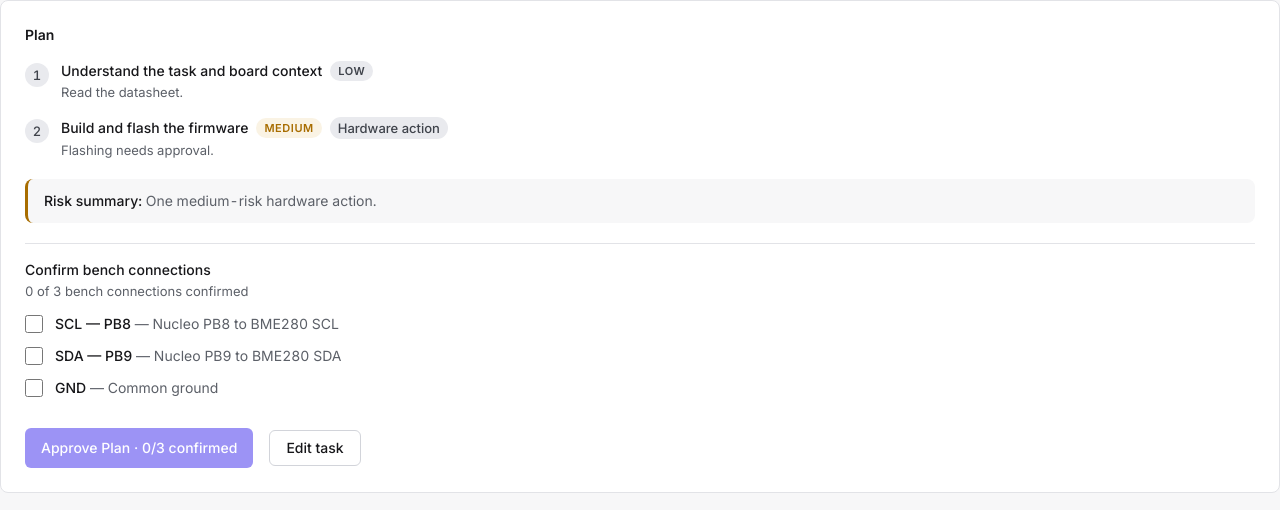
Test: PlanReview checklist gate (D12) › re-arms the gate when a confirmed line is unchecked
The image size is (1280, 510).
Click the checkbox labelled "SCL — PB8 — Nucleo PB8 to BME280 SCL". click: [34, 324]
box: 25,315 -> 43,333
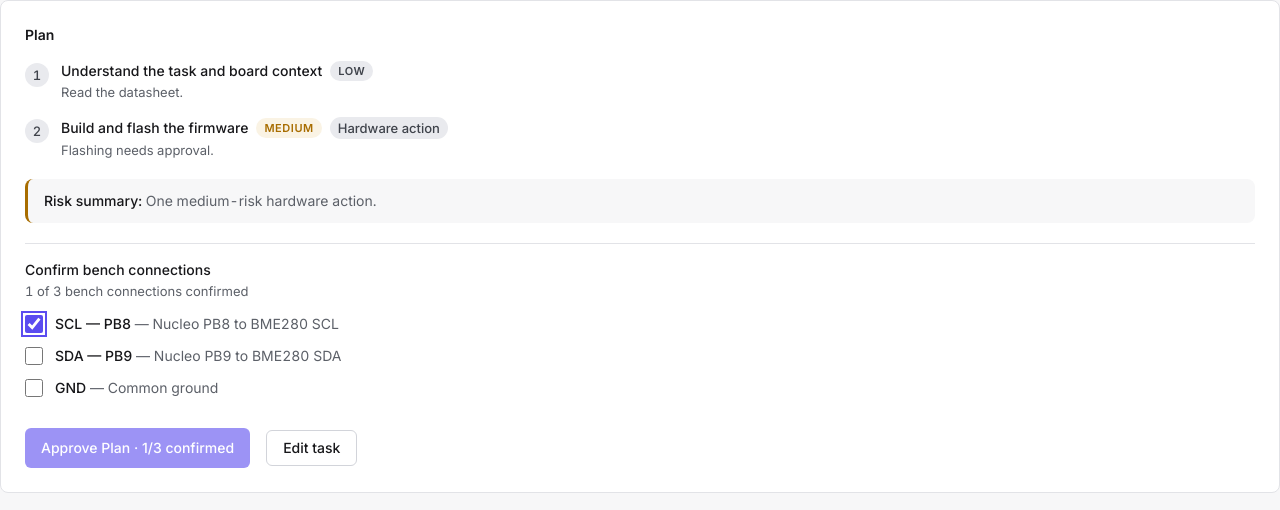
Click the checkbox labelled "SDA — PB9 — Nucleo PB9 to BME280 SDA". click: [34, 356]
box: 25,347 -> 43,365
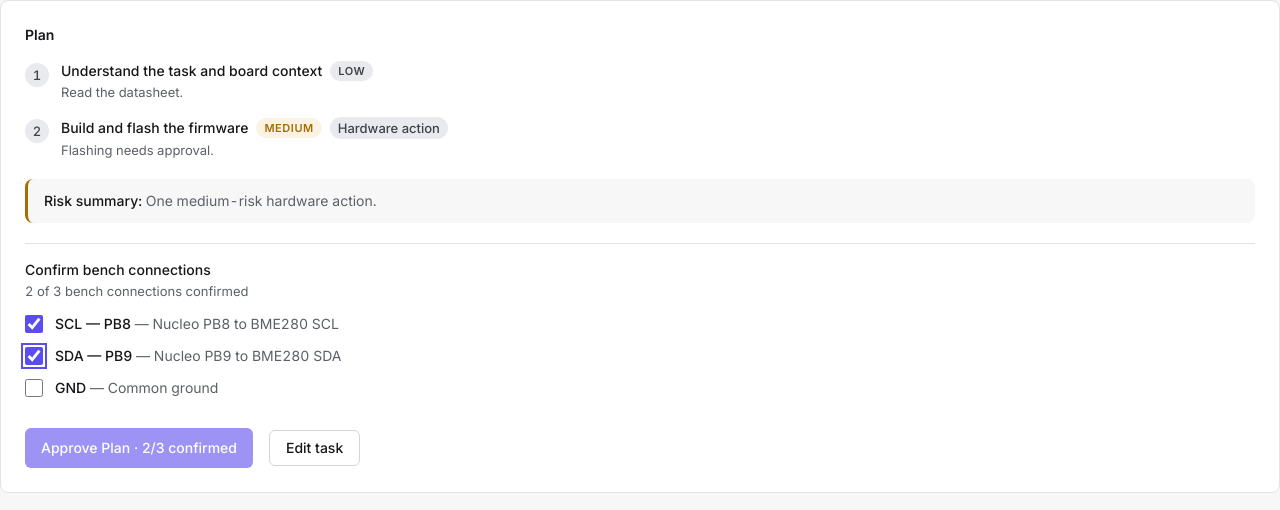
Click the checkbox labelled "GND — Common ground". click: [34, 388]
box: 25,379 -> 43,397
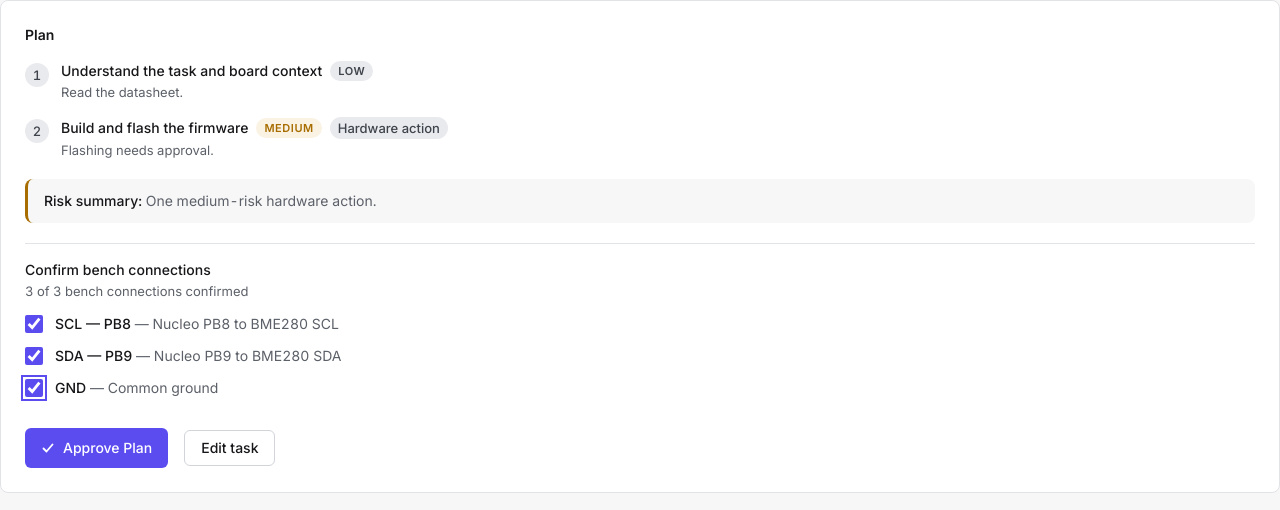
expect the button "Approve Plan" is enabled: met, box 25,428 -> 168,468
Click the checkbox labelled "SDA — PB9 — Nucleo PB9 to BME280 SDA". click: [34, 356]
box: 25,347 -> 43,365
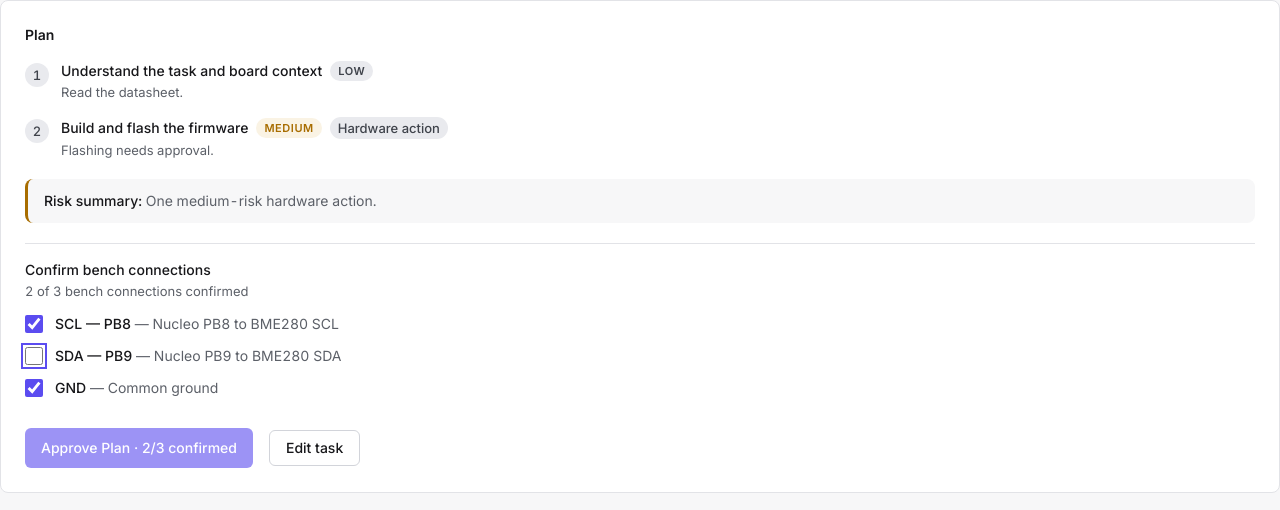
expect the button "Approve Plan · 2/3 confirmed" is disabled: met, box 25,428 -> 253,468
